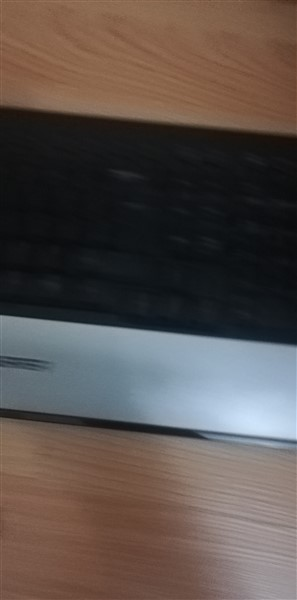klavye: (1, 100, 297, 455)
